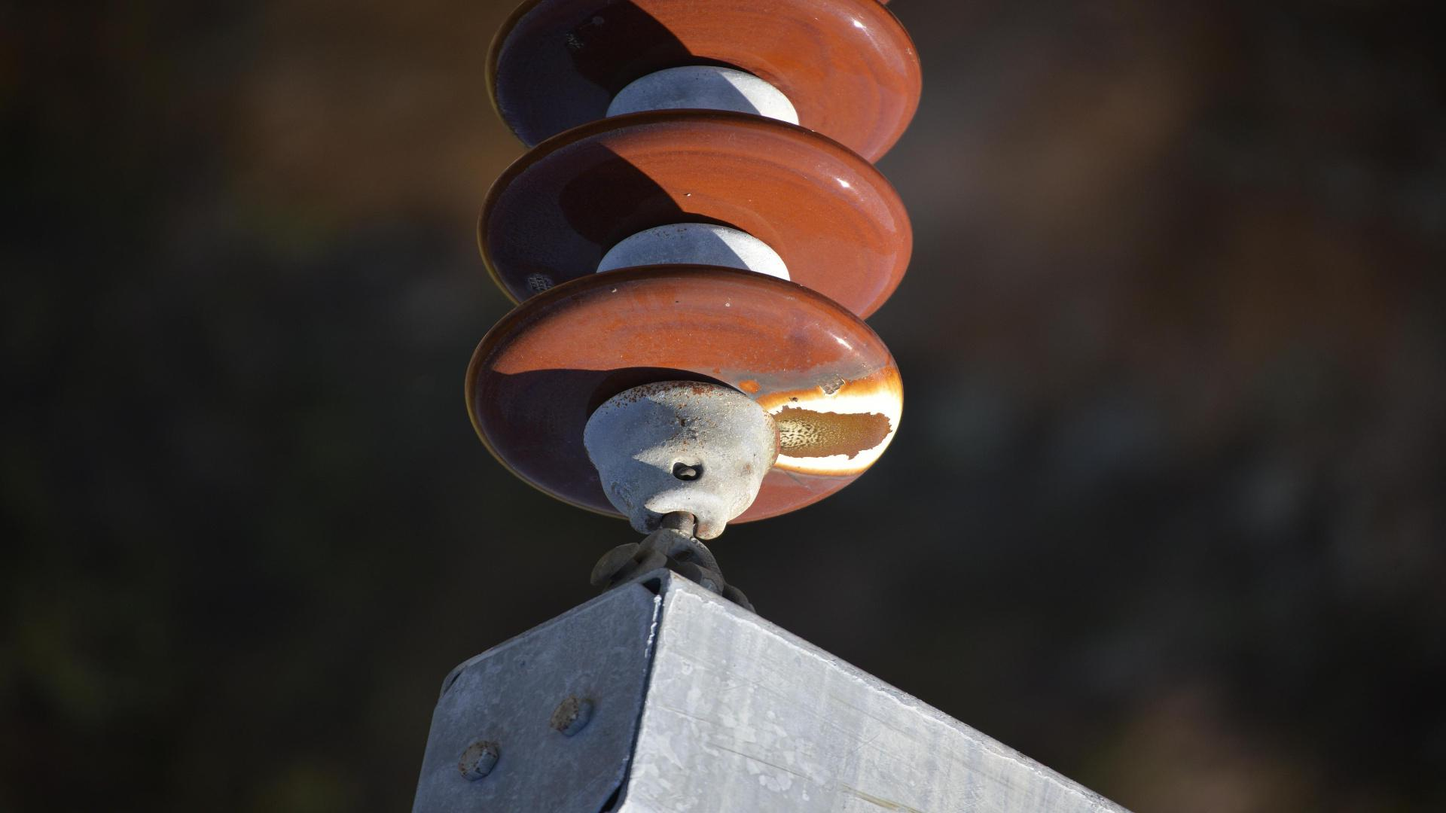insulator: (457, 1, 935, 532)
insulator_flashover: (758, 360, 906, 478)
